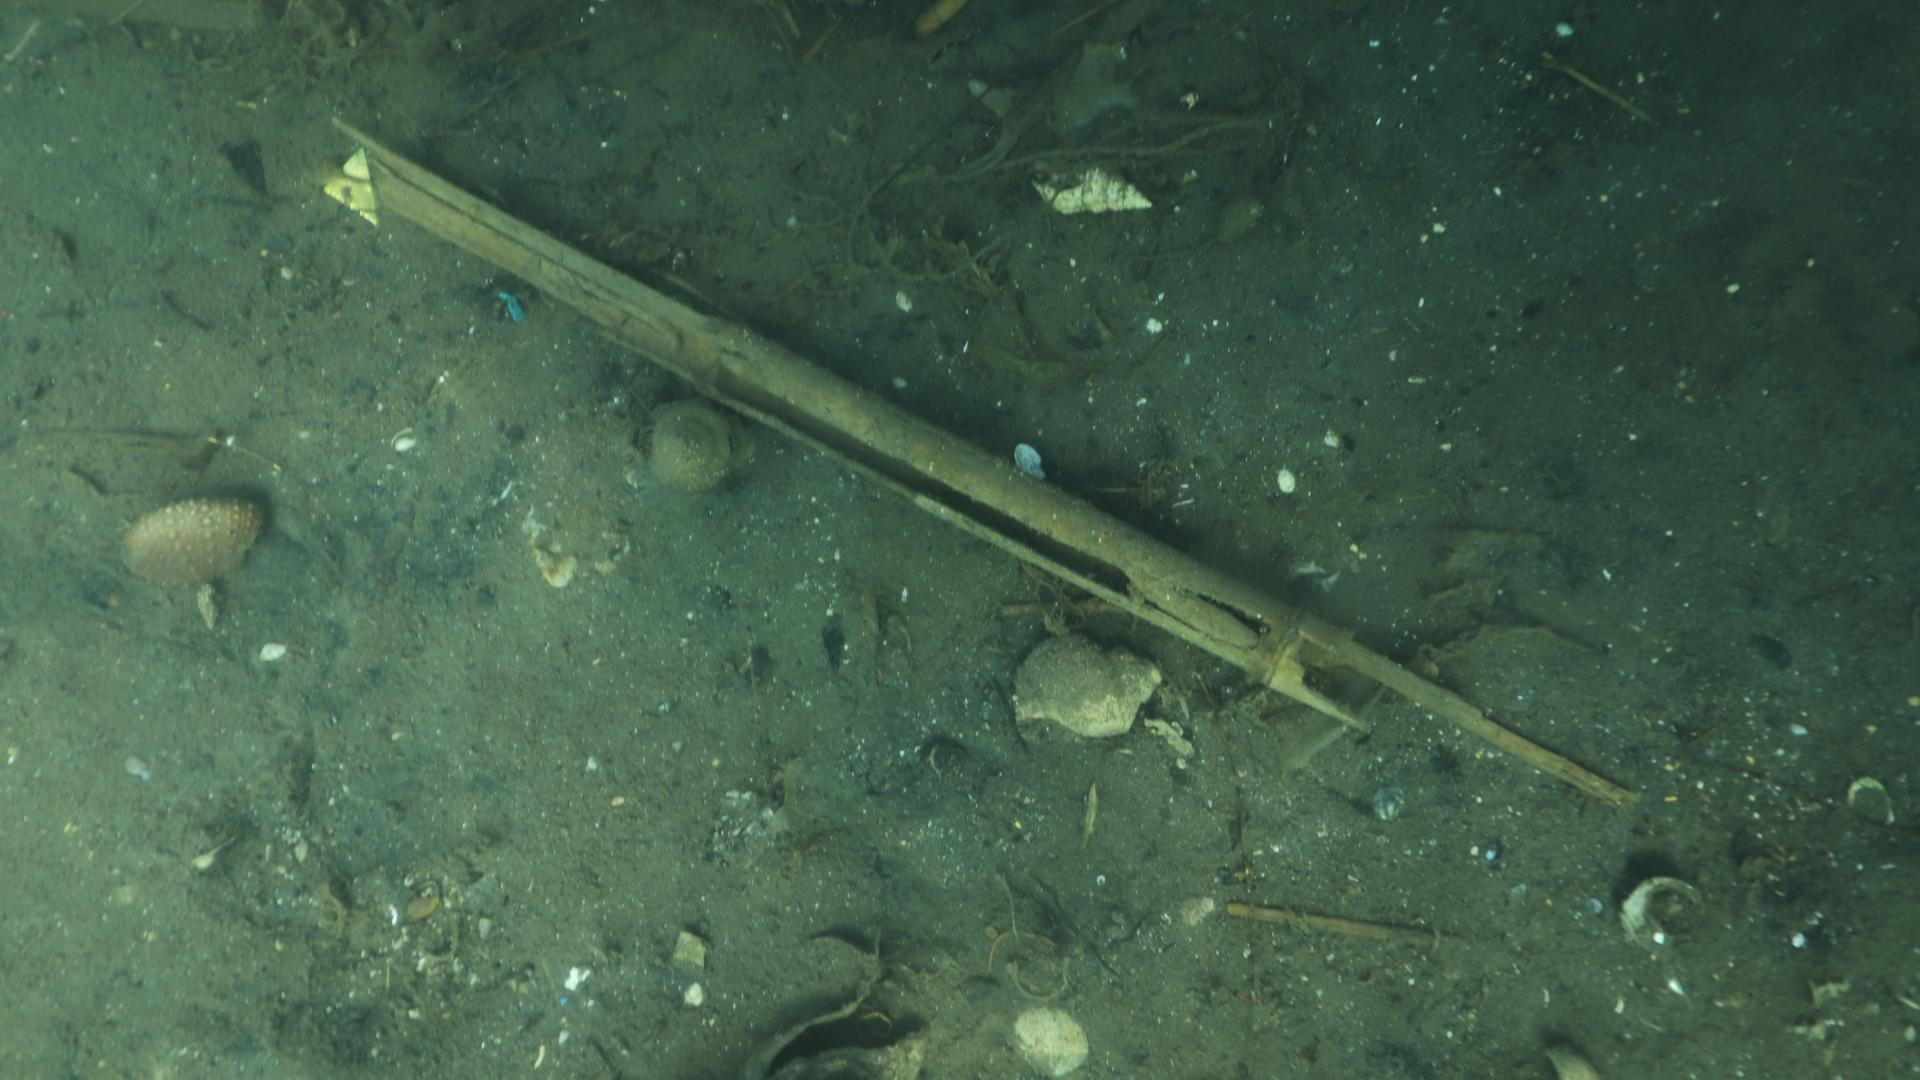wood: (305, 113, 1636, 807)
